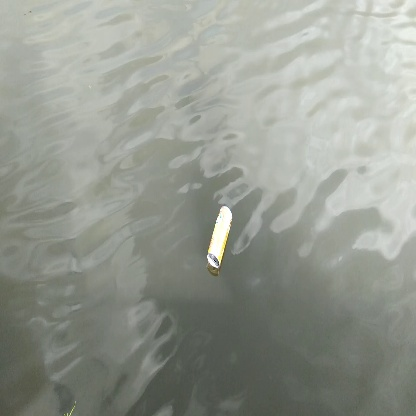bottle: (204, 204, 238, 271)
